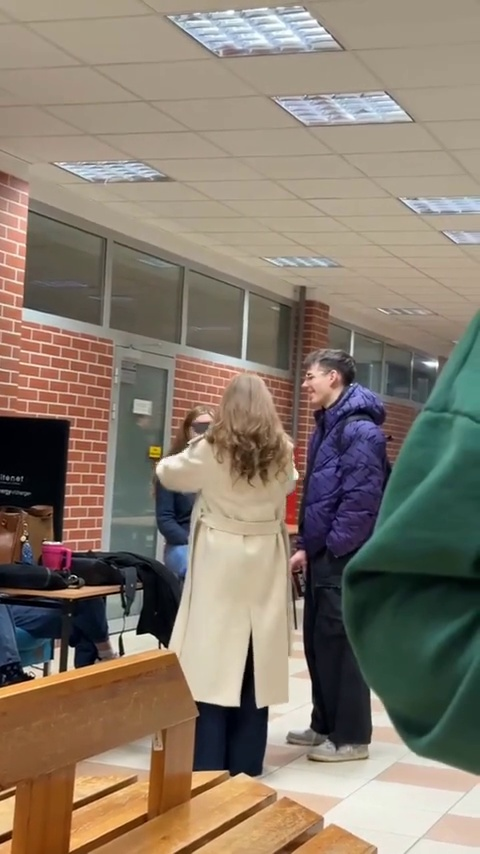no vest: (175, 361, 291, 727), (291, 349, 391, 734)
